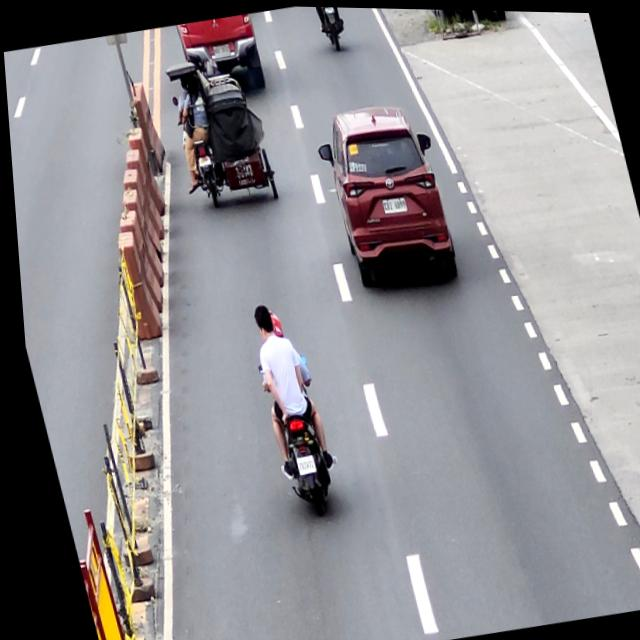Car: (308, 96, 463, 293), (173, 11, 268, 102)
License-Plate: (378, 193, 405, 214), (287, 454, 311, 476), (211, 41, 231, 59)
Motorcycle: (251, 355, 337, 517)
Tricycle: (160, 52, 279, 212)
